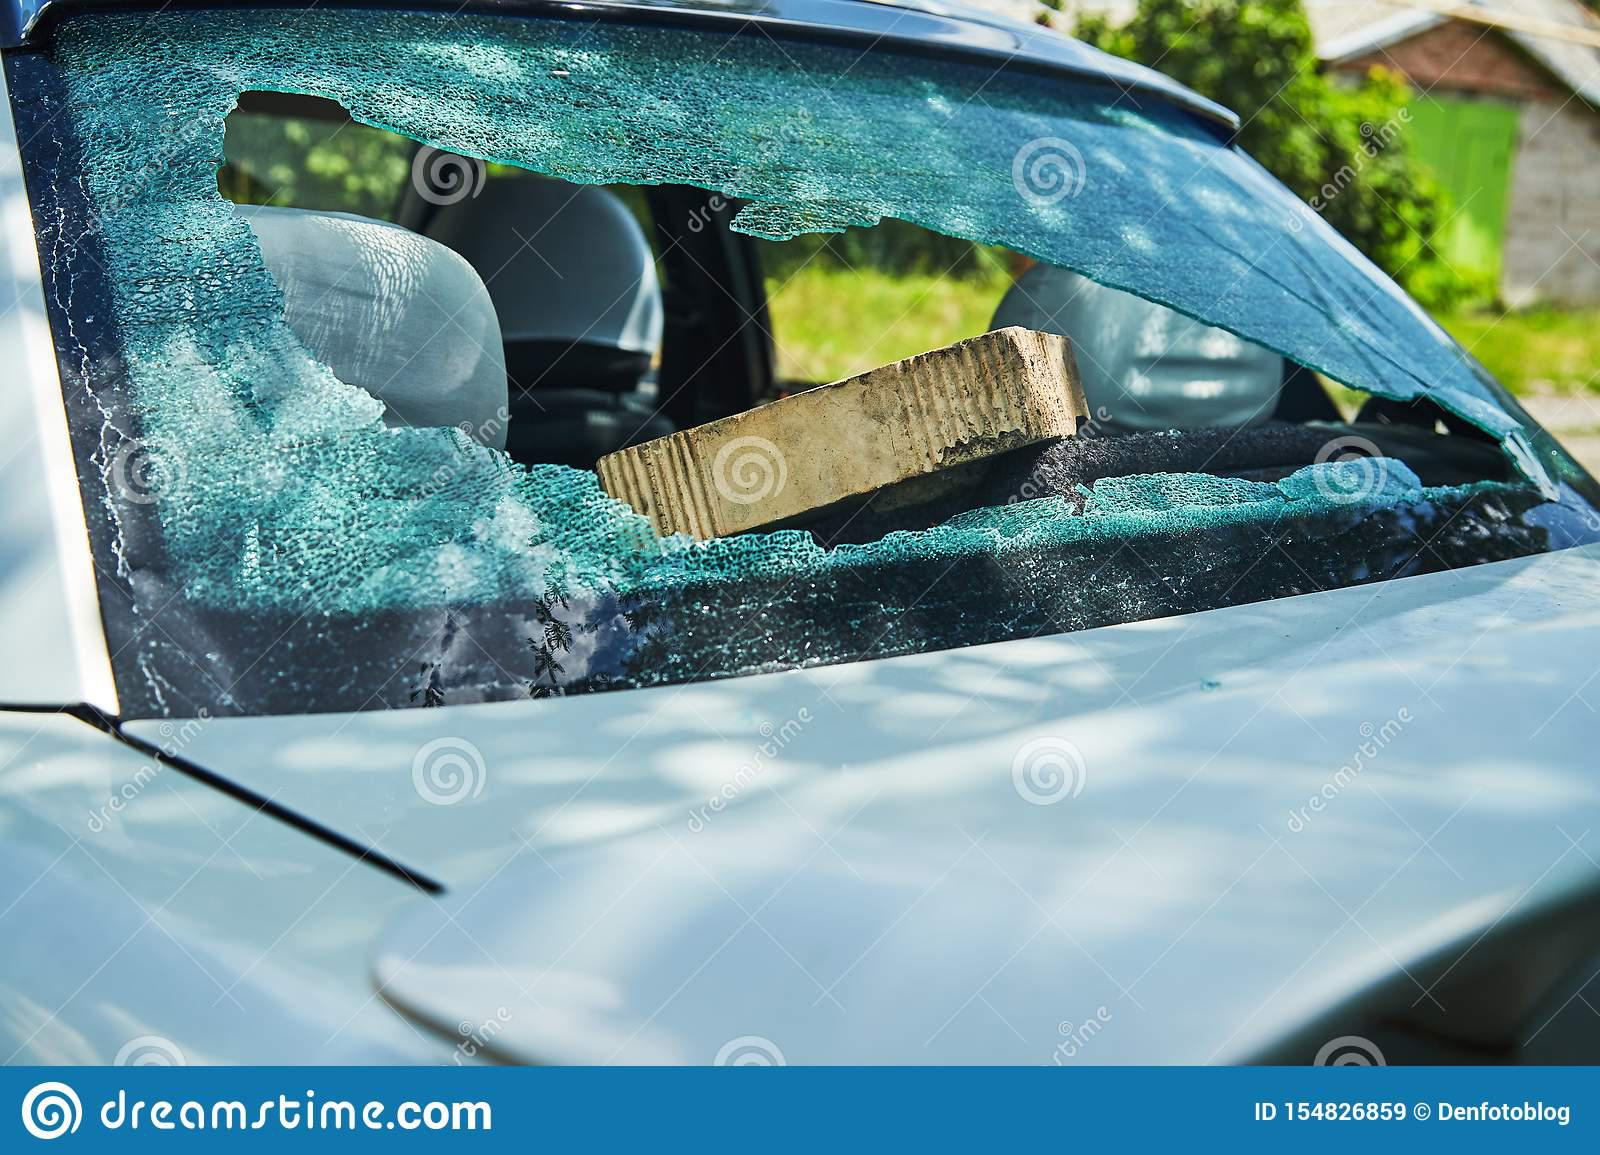Rear-windscreen-Damage: (0, 0, 1589, 775)
